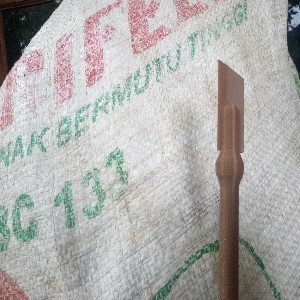cutter: (214, 58, 246, 300)
